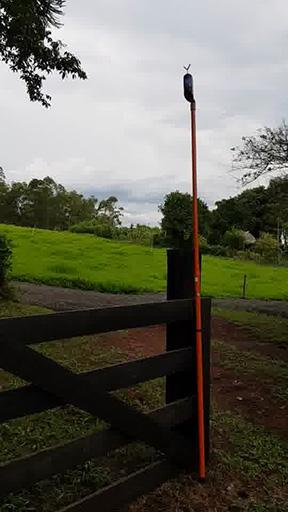Detector_Tensao_Contato: (182, 63, 195, 103)
Vara_Manobra: (189, 103, 207, 480)
